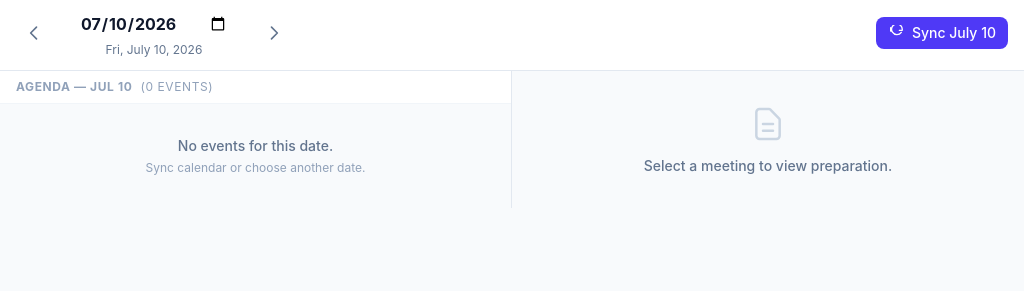
Test case: MeetingsView — Calendar Sync › shows total persistence failure feedback
Step 1. Click the button "Sync July 10" → (942, 33), box [876,17,1008,49]
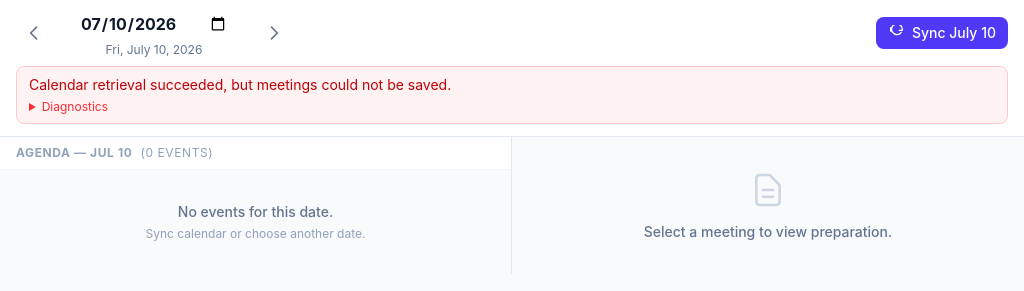
Check: the text "meetings could not be saved" is shown, box [29,76,451,93]
